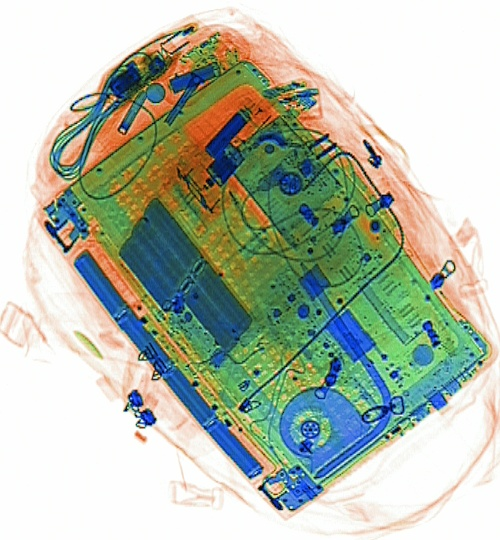powerbank: (112, 188, 254, 376)
